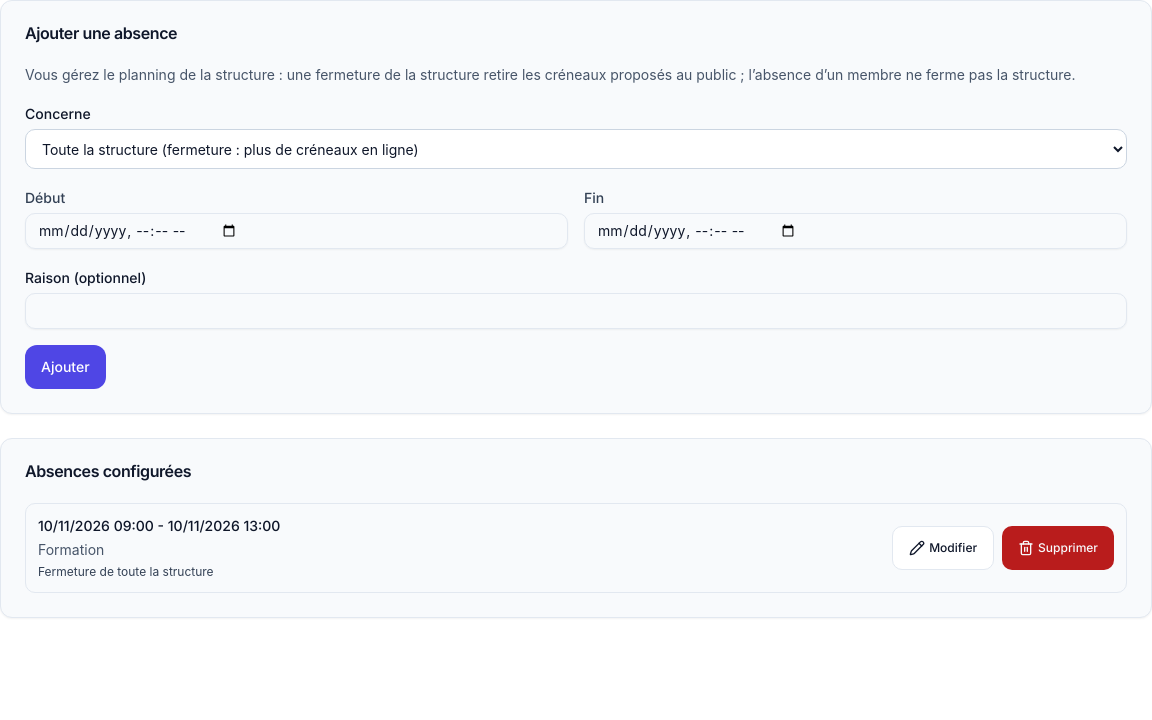
Test case: R24 absences and opening hours (owner decision R18.5) › a schedule manager chooses whom the absence concerns; a refusal is said
This screenshot has width=1152, height=720.
Expected: the text "Fermeture de toute la structure" is shown, [38,564,214,579]
Expected: the button "Supprimer" is shown, [1002,526,1114,570]
Select "anna@example.test" in the dropdown labelled "Concerne". click: (576, 149)
box: [25,129,1127,169]
Type "2026-11-12T09:00" into the field labelled "Début". click: (296, 231)
box: [25,213,568,249]
Type "2026-11-12T12:00" into the field labelled "Fin". click: (856, 231)
box: [584,213,1127,249]
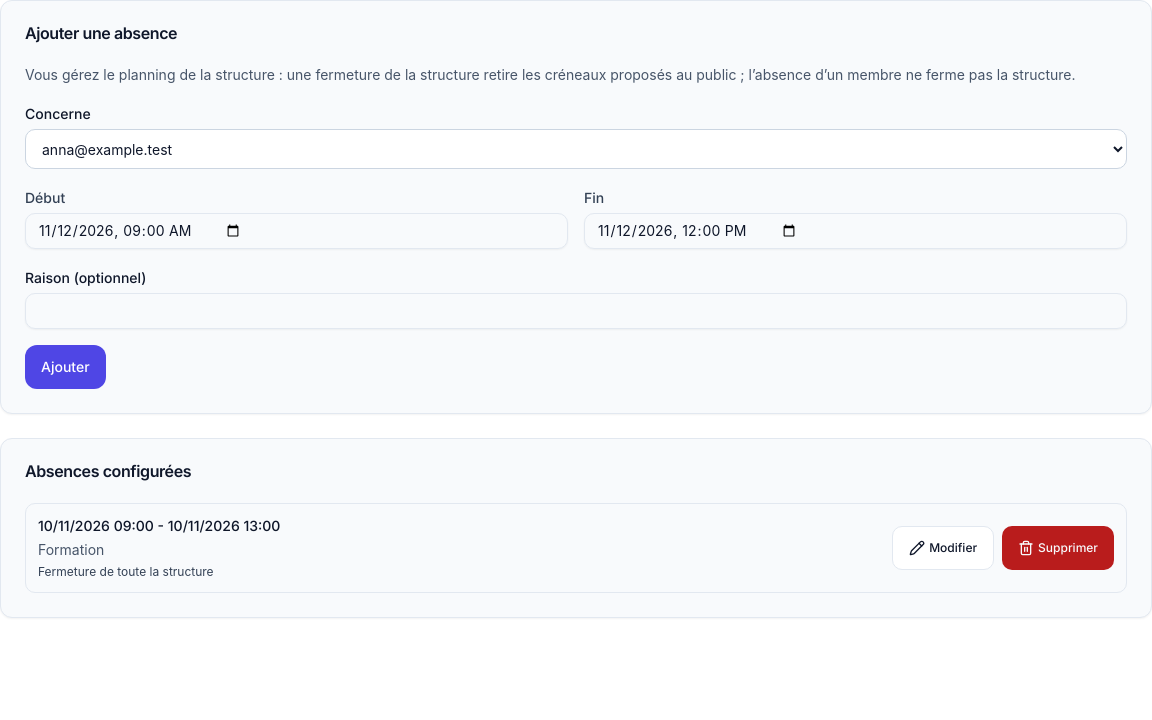
Click the button "Ajouter". click: click(65, 367)
box: [25,345,106,389]
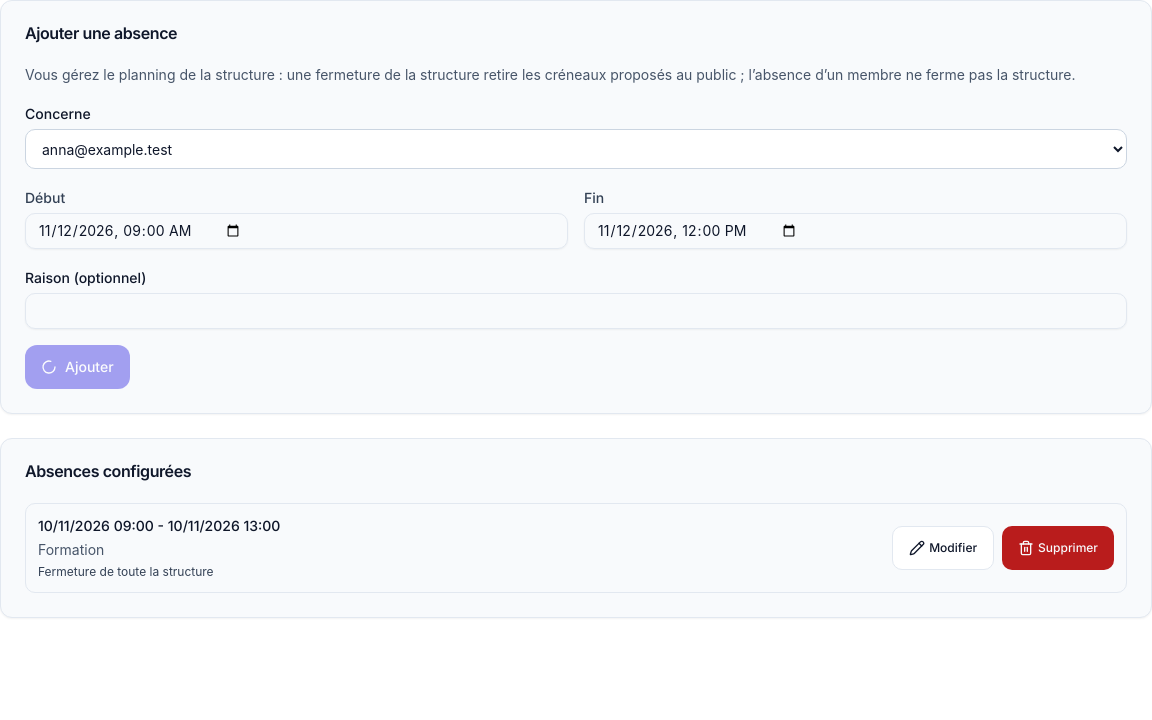
Select "Toute la structure (fermeture : plus de créneaux en ligne)" in the dropdown labelled "Concerne". click: (576, 149)
box: [25,129,1127,169]
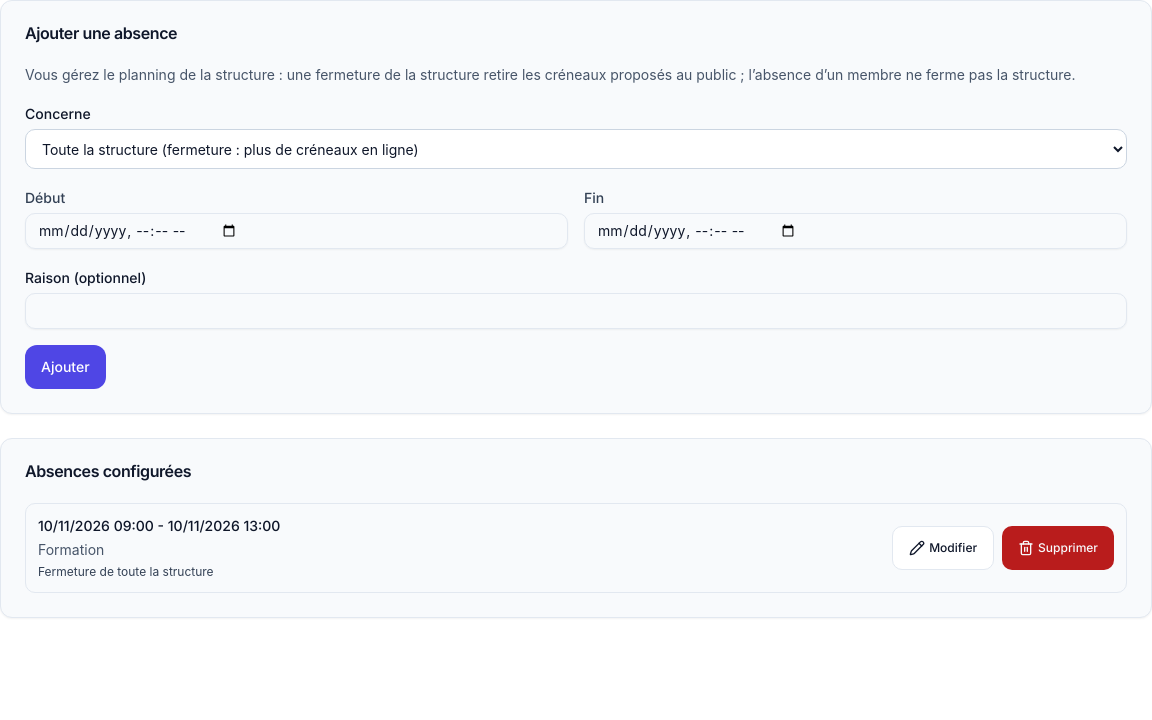
Type "2026-11-13T09:00" into the field labelled "Début". click: (296, 231)
box: [25,213,568,249]
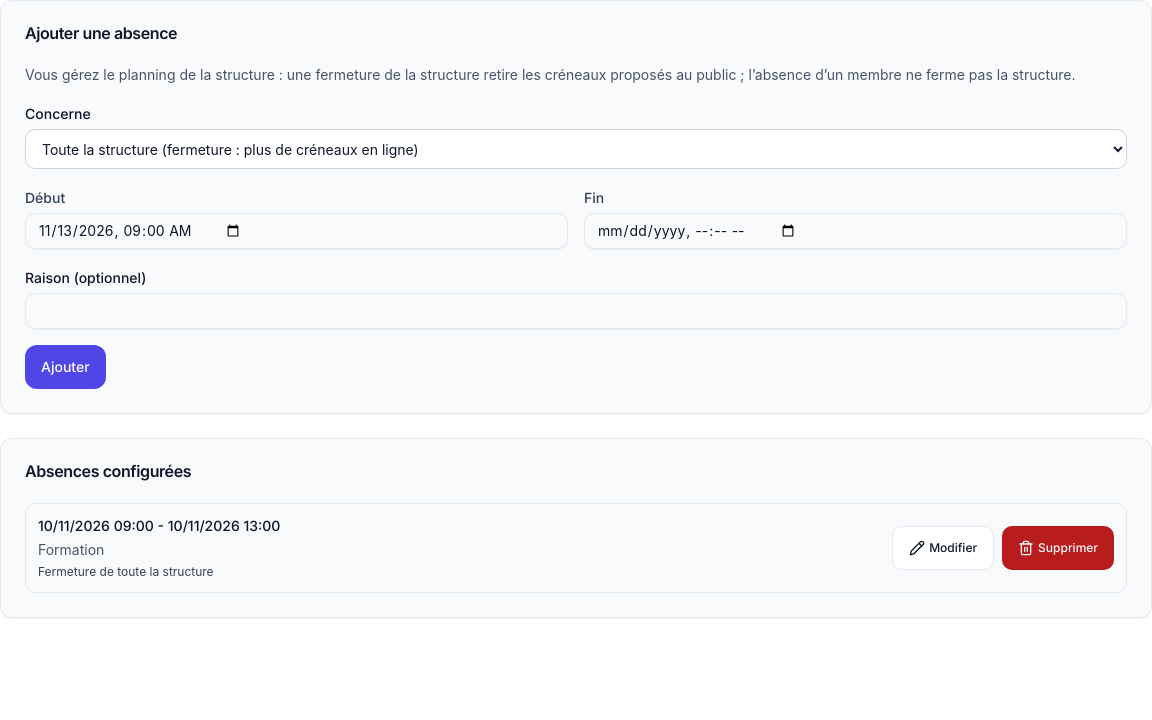
Type "2026-11-13T12:00" into the field labelled "Fin". click: (856, 231)
box: [584,213,1127,249]
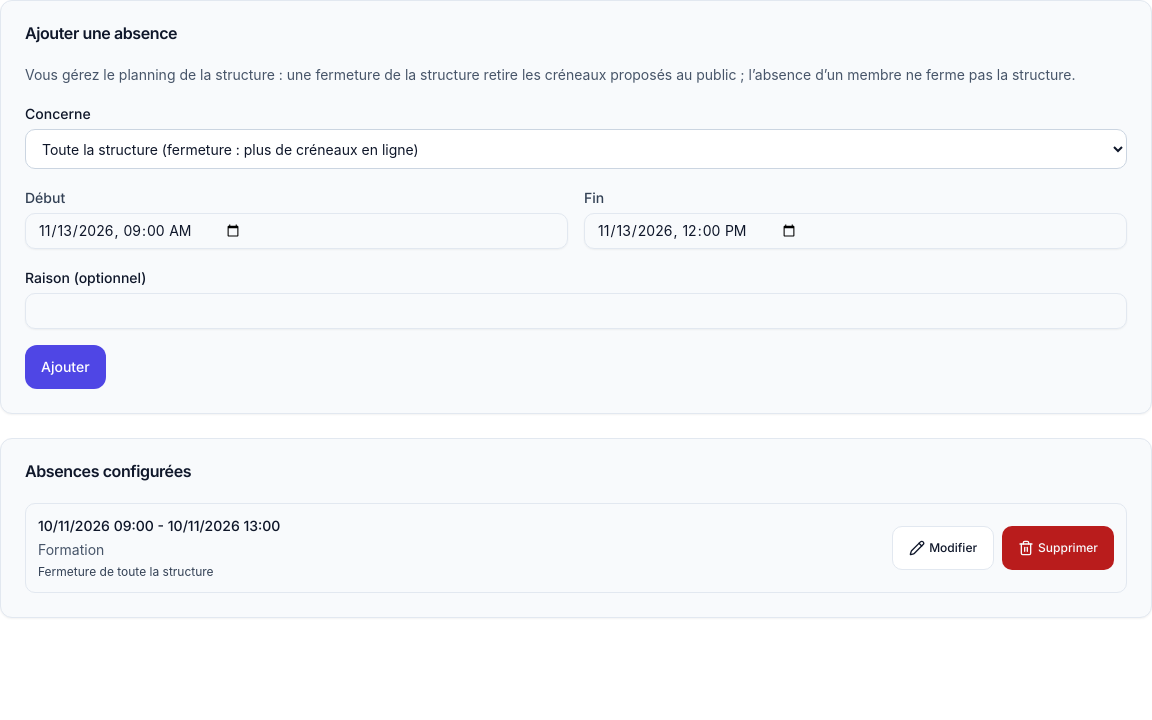
Click the button "Ajouter". click: click(65, 367)
box: [25,345,106,389]
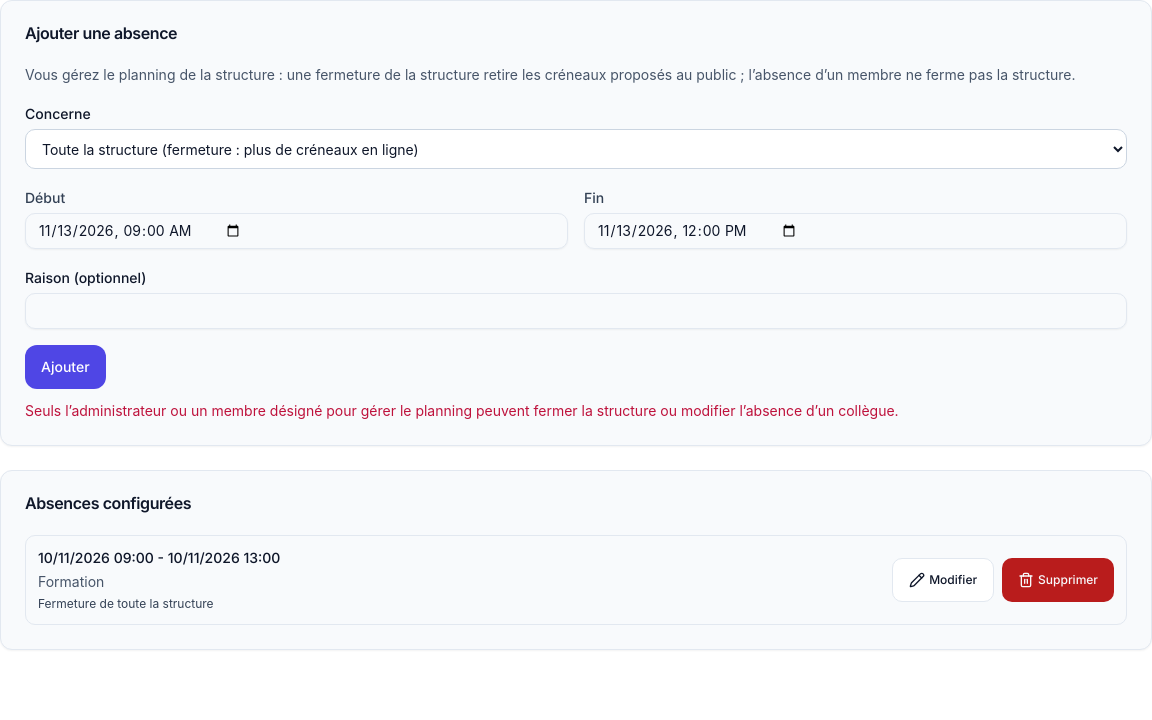
Now the message with test id "pro-timeoff-error" shows "Seuls l’administrateur ou un membre désigné", box [25,402,899,419]
